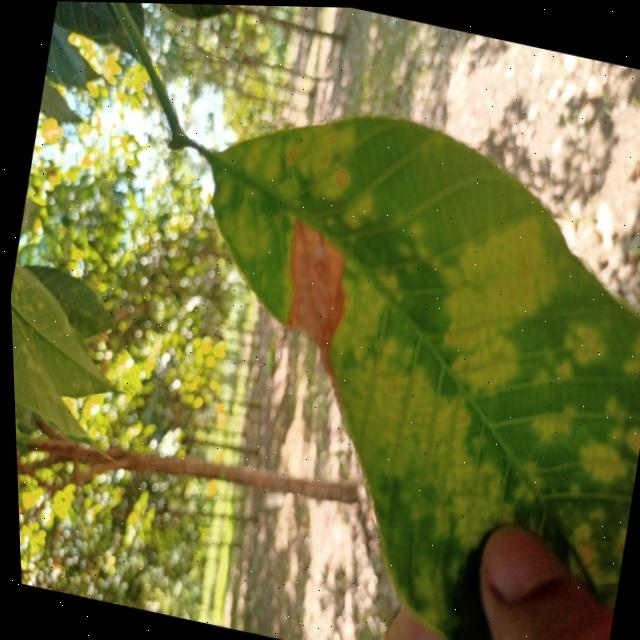Leaf-Blight: (264, 217, 359, 375)
